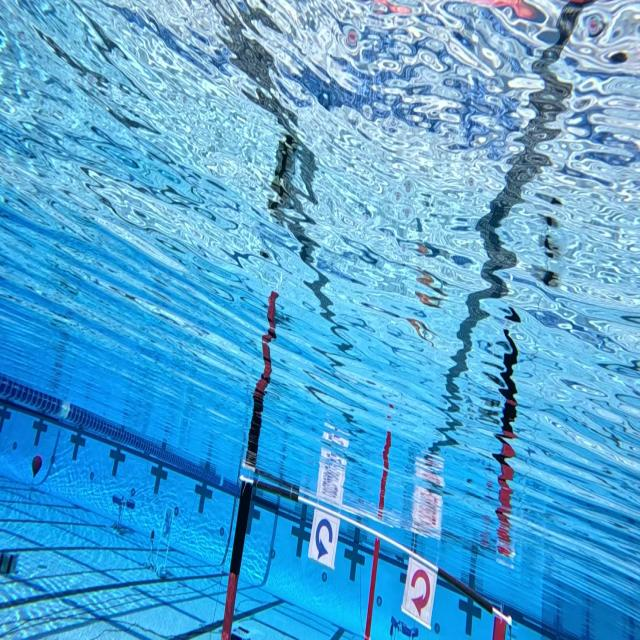blue_side: (308, 504, 340, 564)
red_side: (402, 550, 438, 625)
